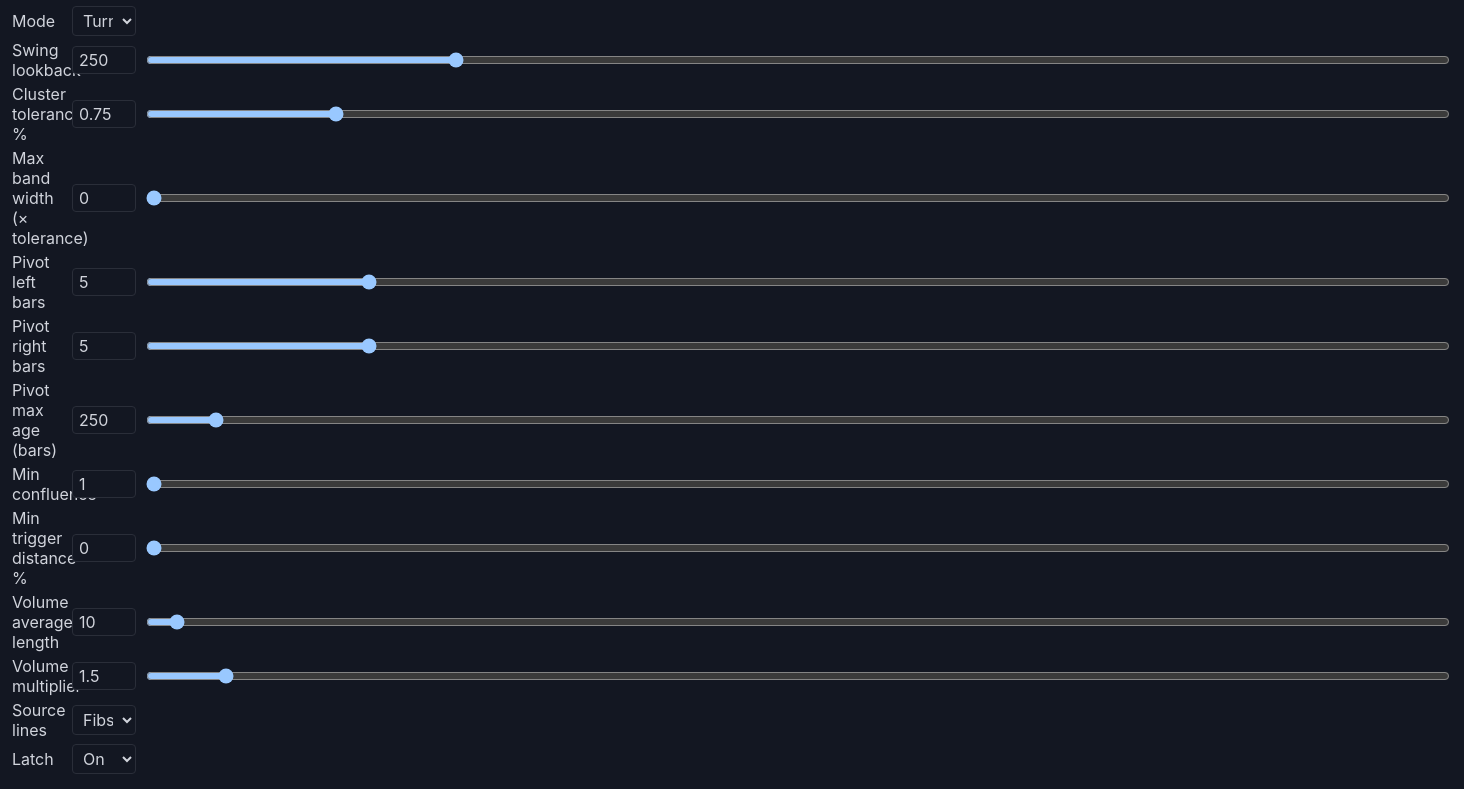
Test: ParamsEditor confluence fields › keeps the values of the hidden mode through a mode change and a change back
Replace the text in the number field labelled "Min confluence" with "4" at (104,484), box [72,470,136,498]
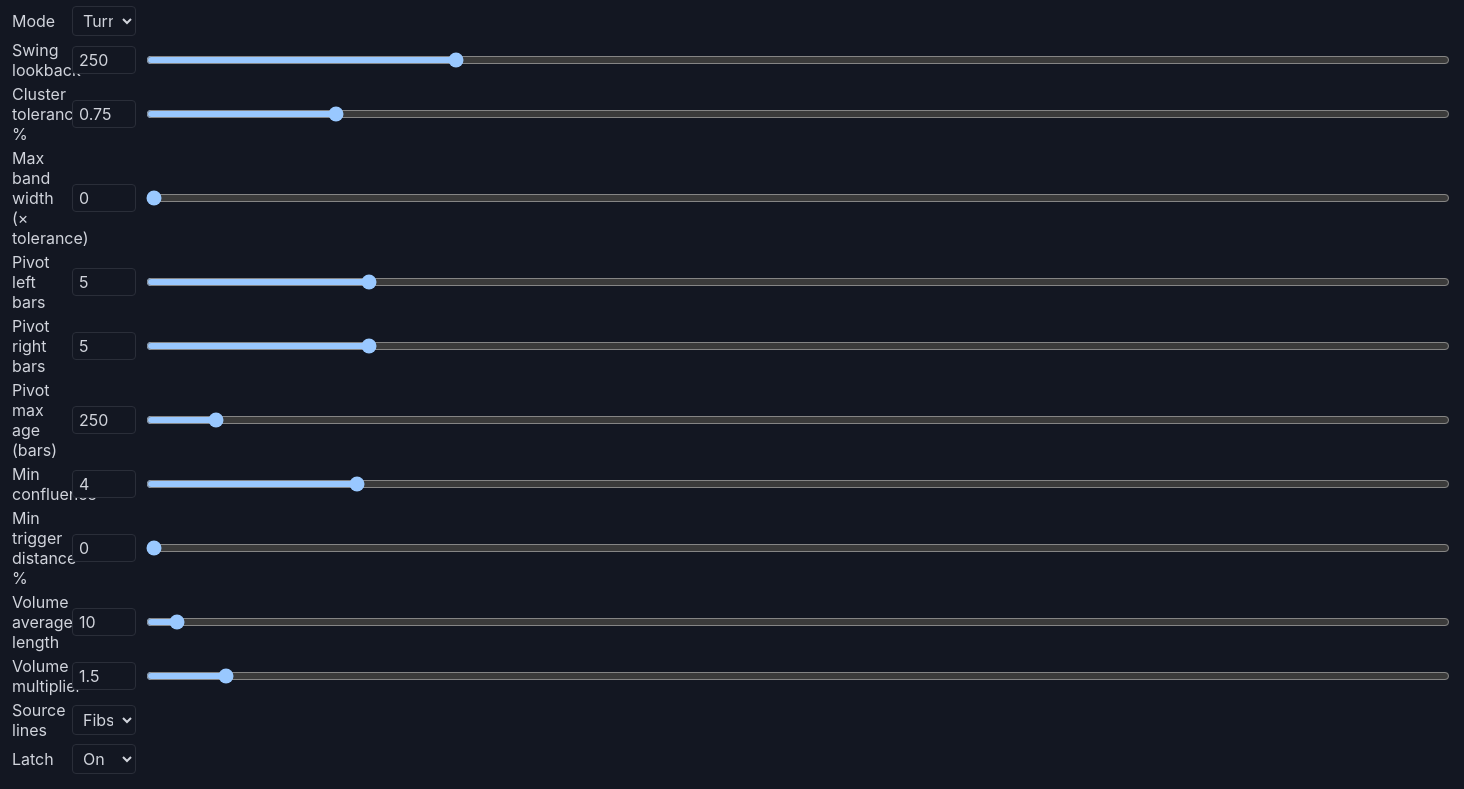
Select "Breakdown" in the dropdown labelled "Mode" at (104,21), box [72,6,136,36]
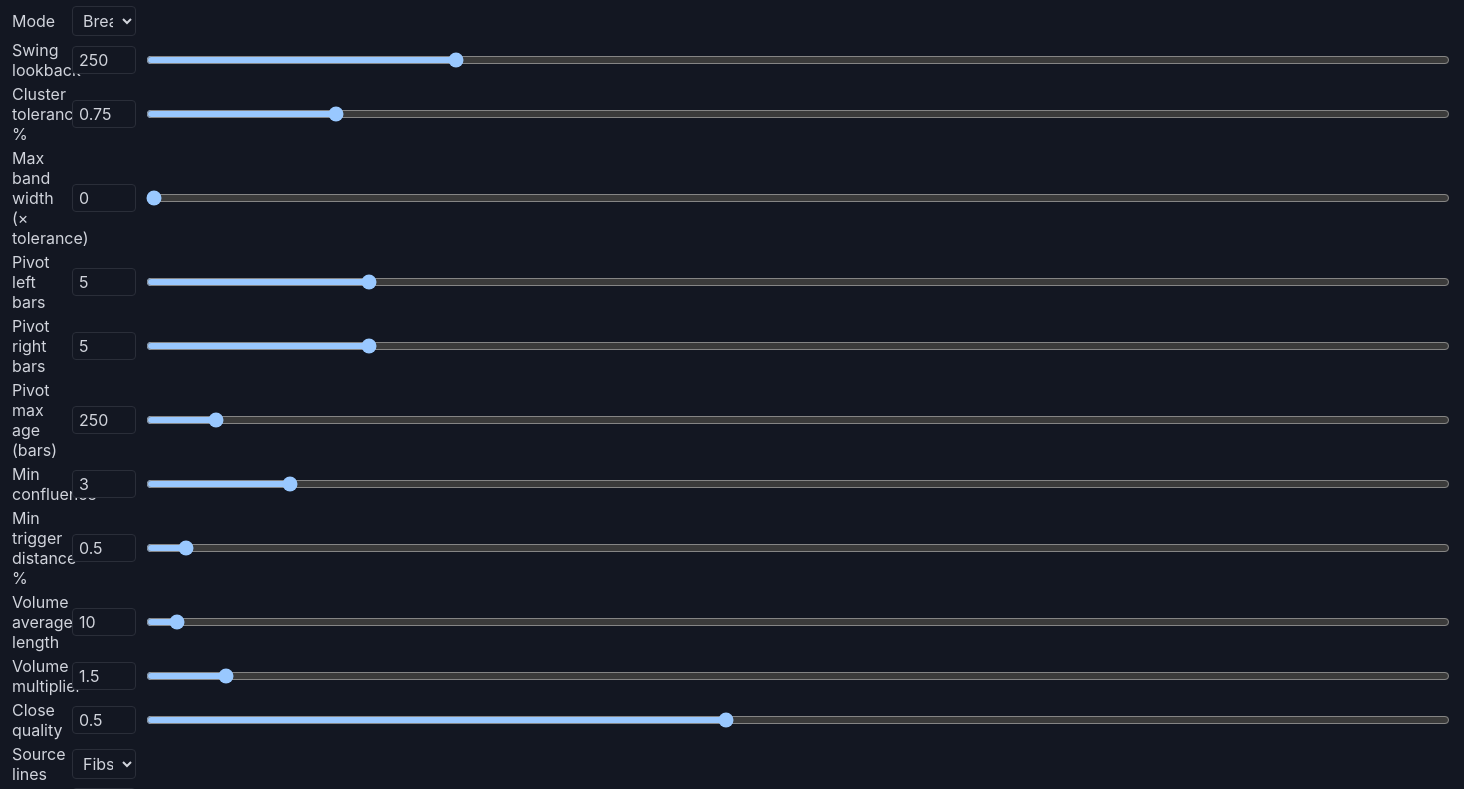
Check: the number field labelled "Min confluence" holds "3"
Replace the text in the number field labelled "Min confluence" with "5" at (104,484), box [72,470,136,498]
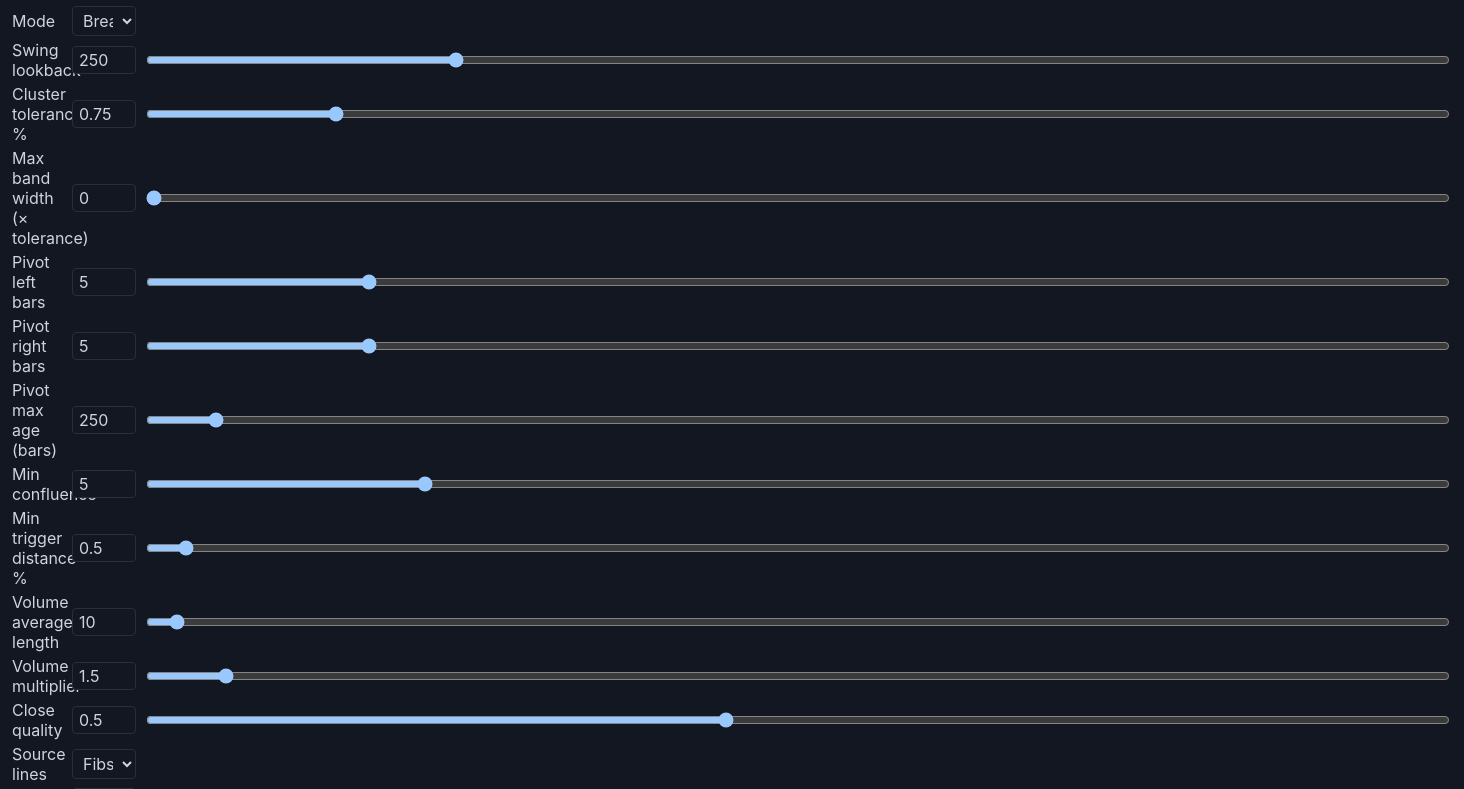
Select "Turn" in the dropdown labelled "Mode" at (104,21), box [72,6,136,36]
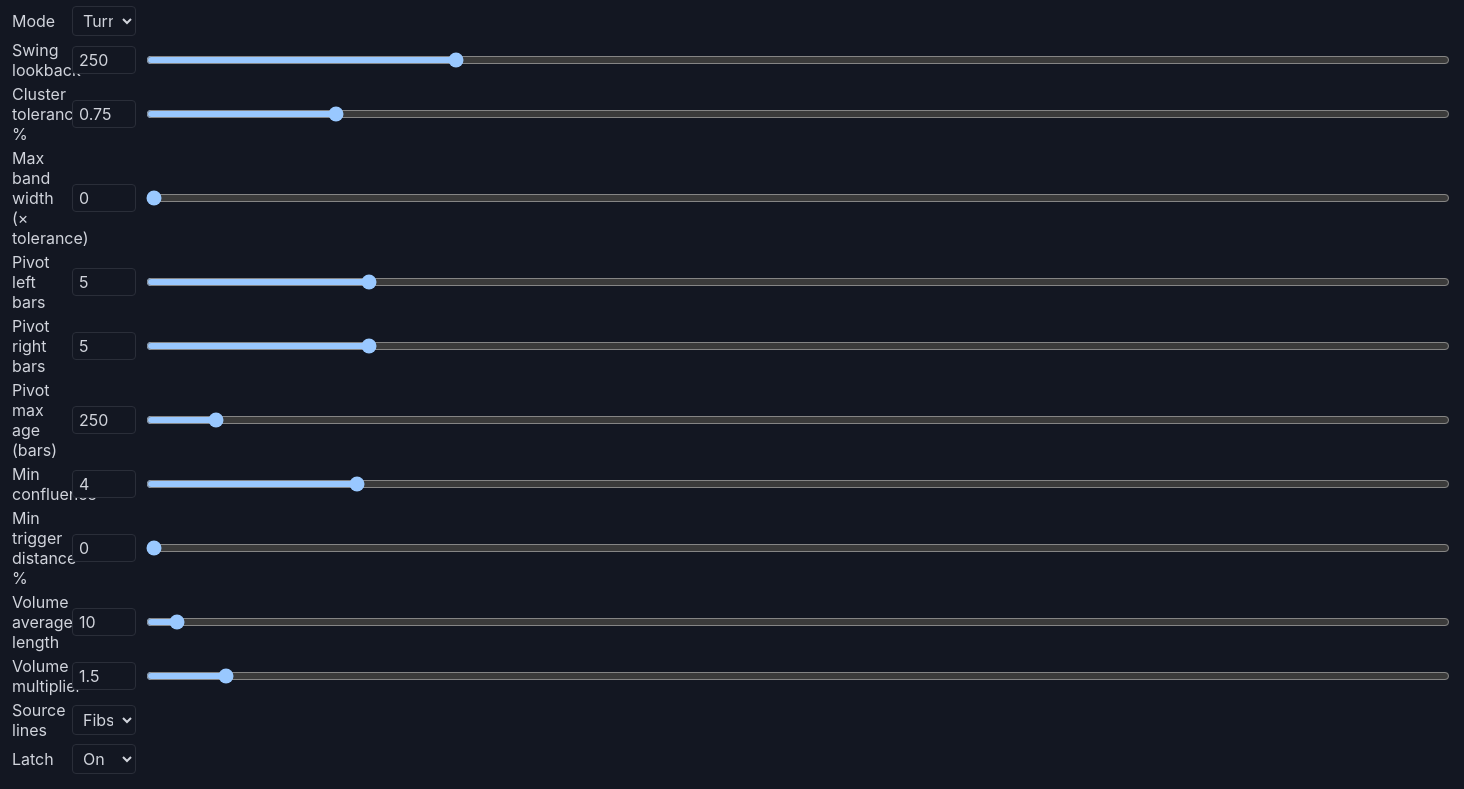
Check: the number field labelled "Min confluence" holds "4", box [72,470,136,498]
